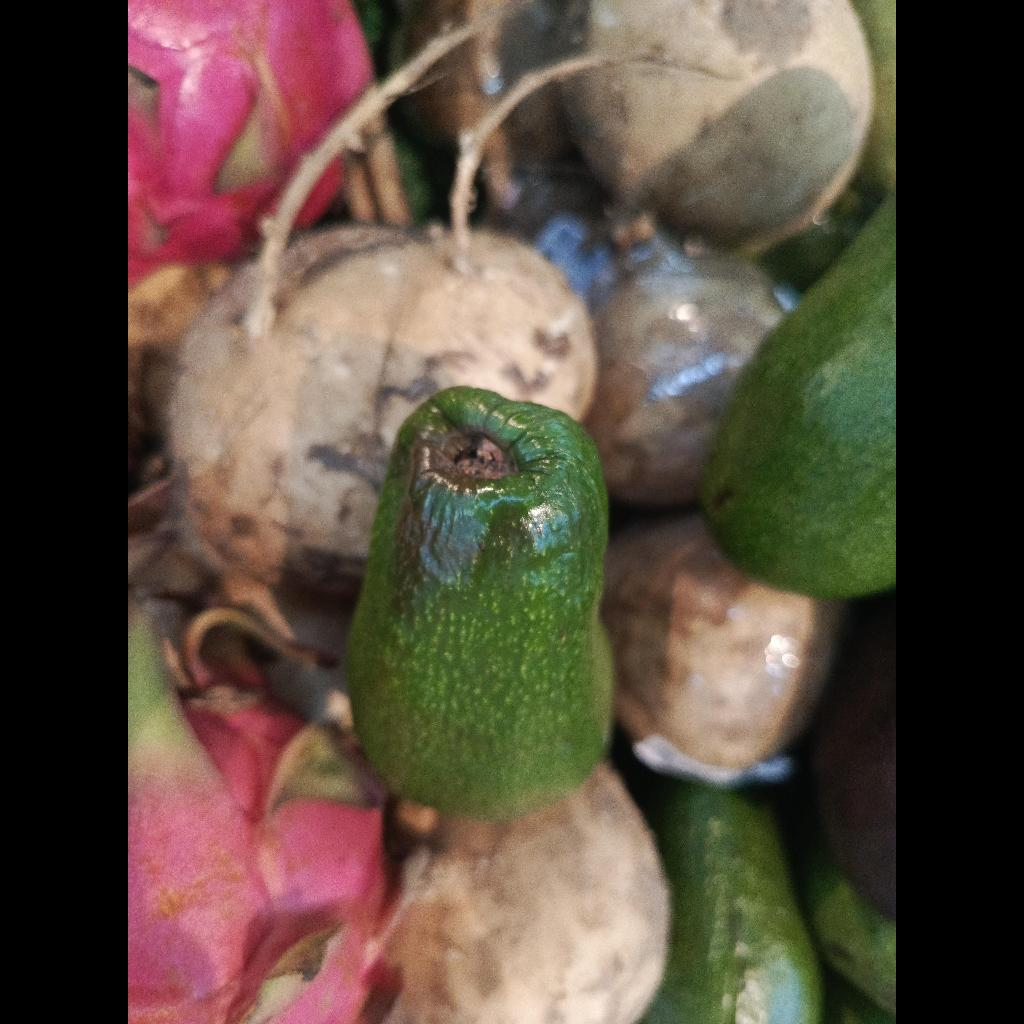stem end rot: (346, 387, 613, 819)
